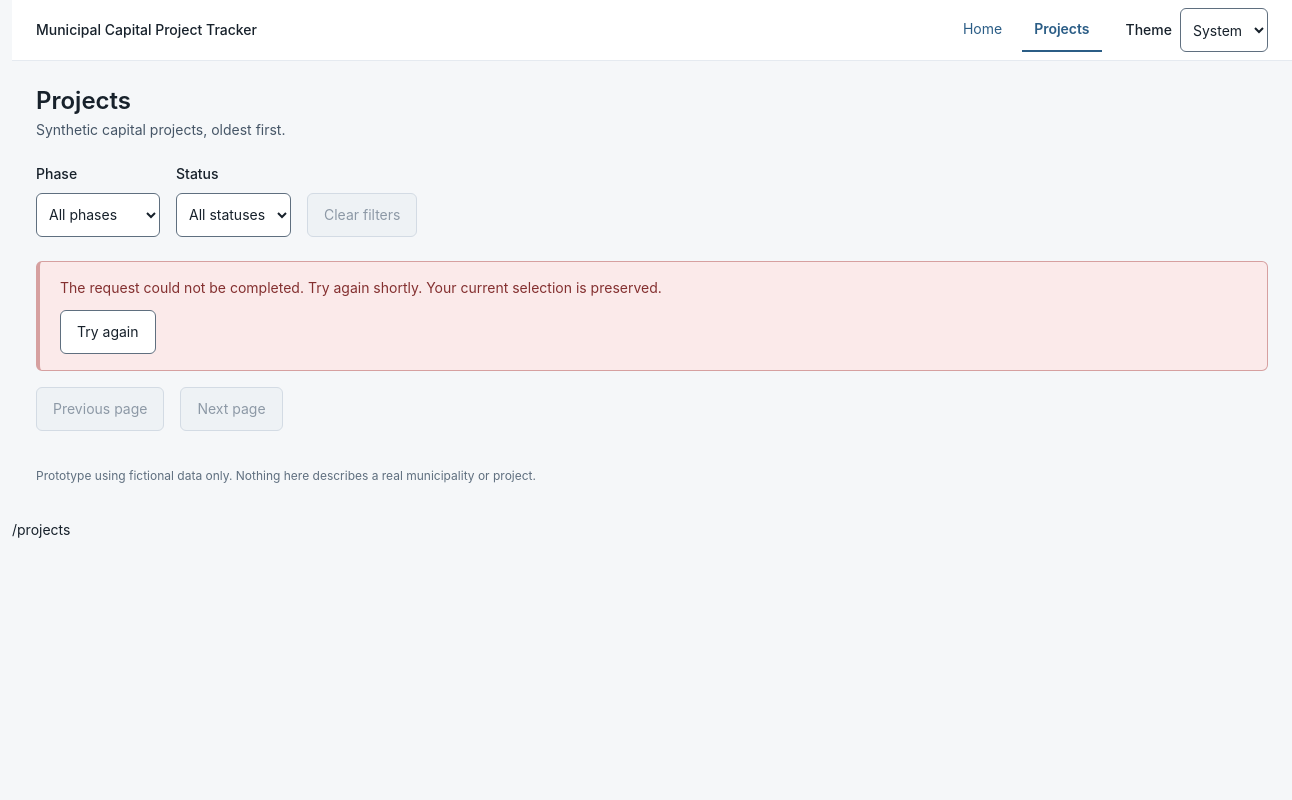
Test: ProjectsPage › retries a failed request while preserving filters
Check: the message is shown, box [36,261,1268,371]
Select "Design" in the dropdown labelled "Phase" at coordinates (98, 215), box [36,193,160,237]
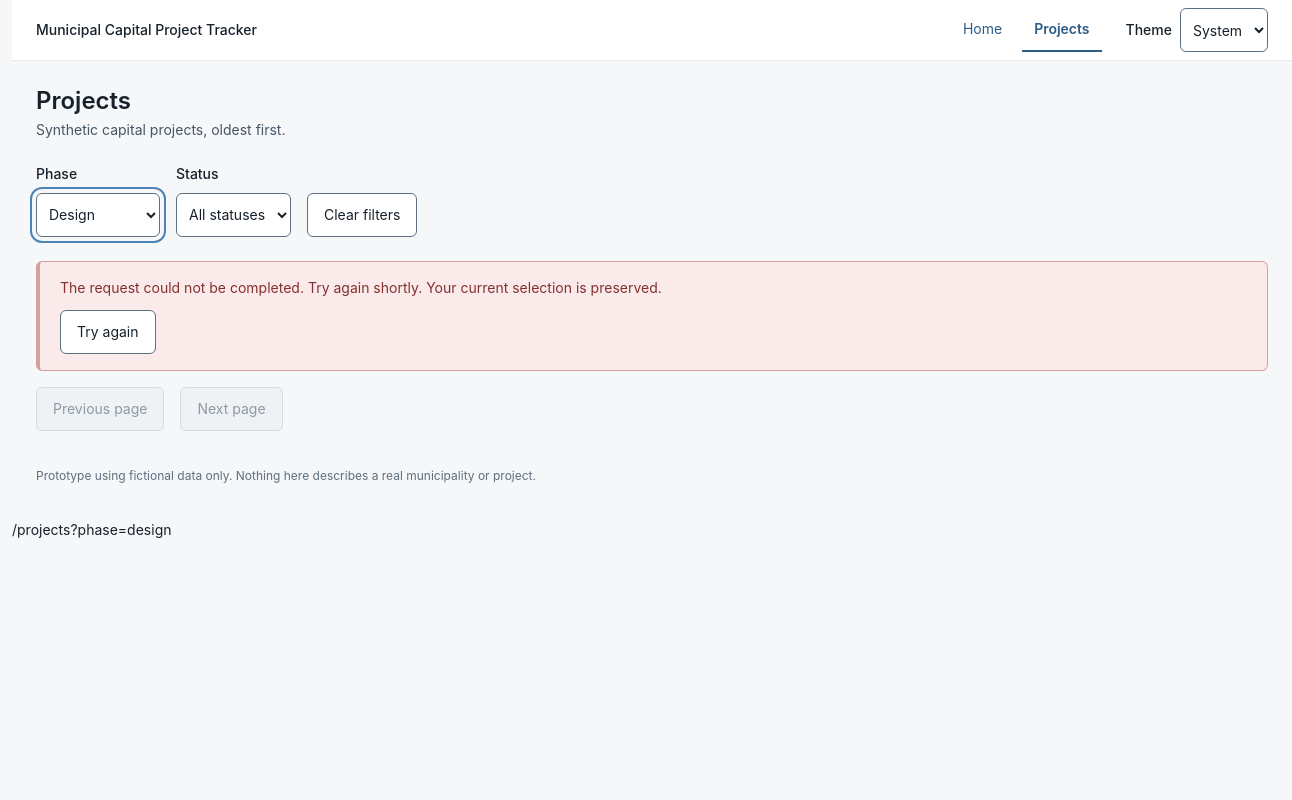
Check: the message is shown, box [36,261,1268,371]
Click the button "Try again" at coordinates (108, 332), box [60,310,156,354]
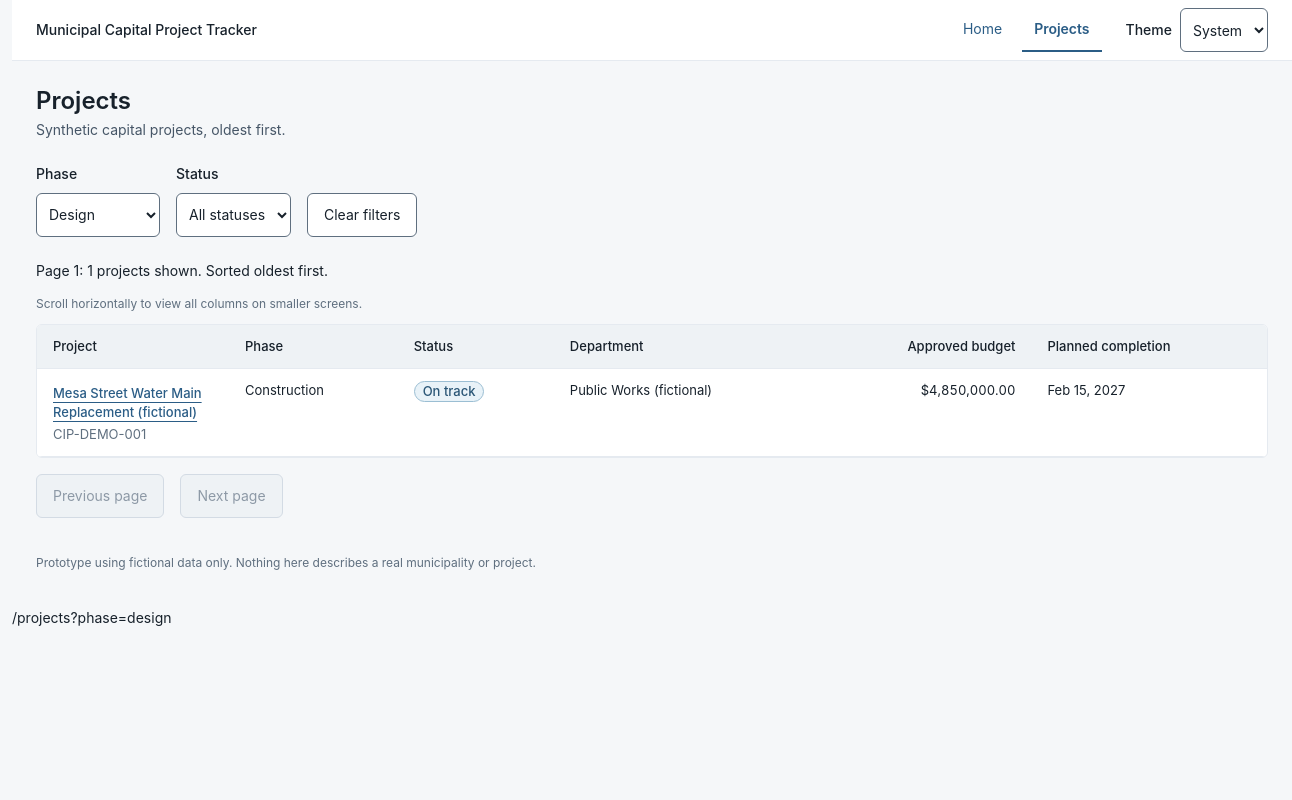
Check: the table is shown, box [37,326,1267,457]
